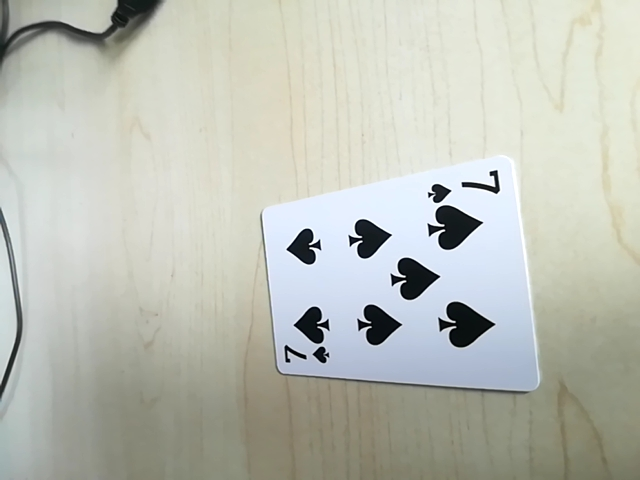ht 7: (424, 166, 506, 199), (274, 341, 332, 370)
